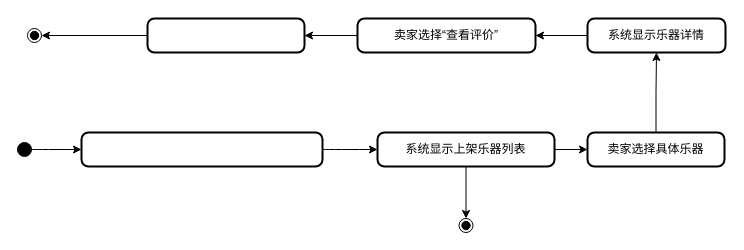
This 744x250 diagram has some shape labels left out. The shapes that lost their labels are listed below. From the top down, each one's centre as x and y in pixels, then its label:
At point (225, 35): "系统显示评价列表".
At point (201, 149): "卖家登录并选择“查看上架乐器”".
